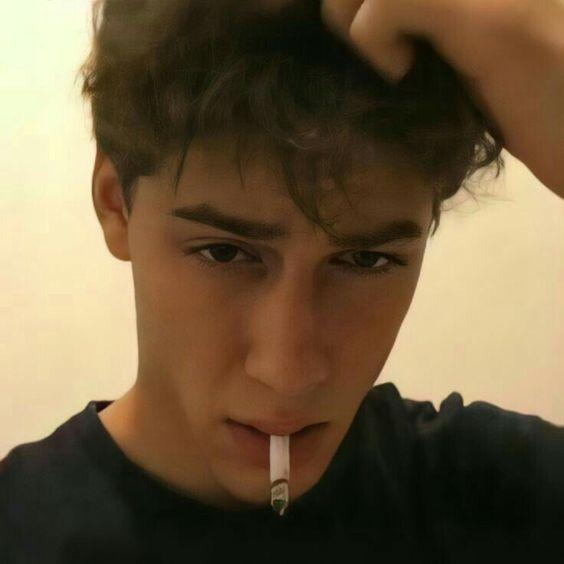cigarette: (269, 435, 290, 515)
